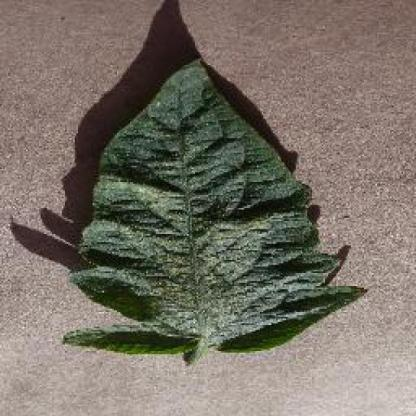Tomato_Spider_Mites: (64, 59, 366, 352)
